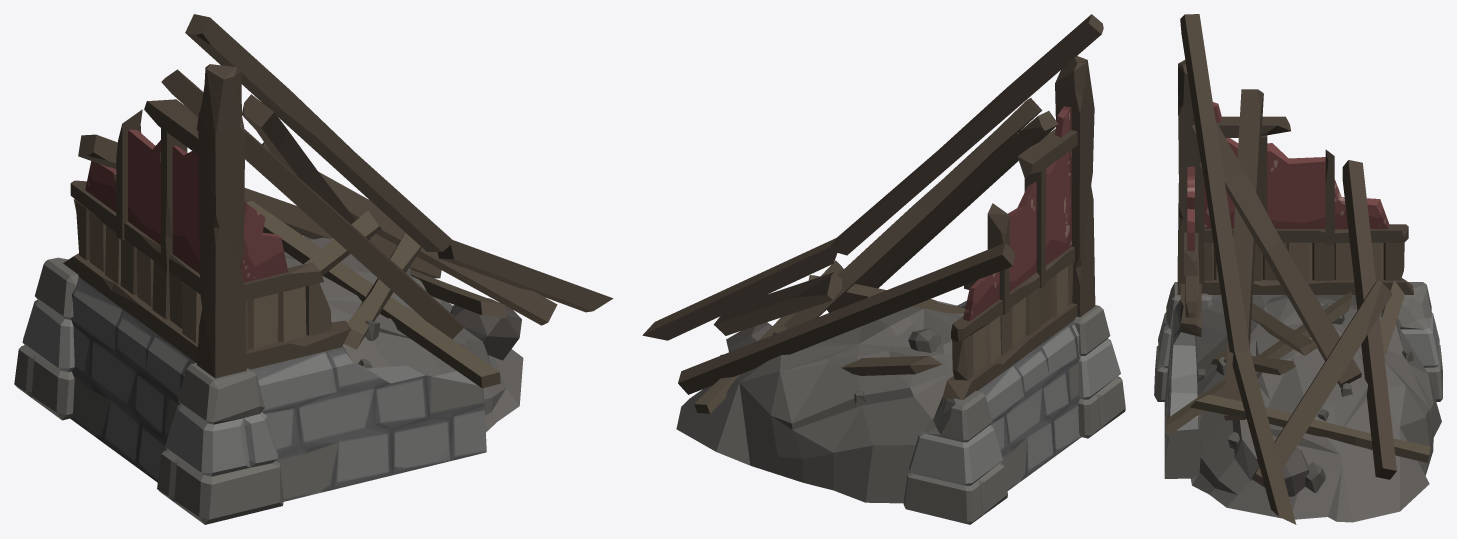
Rendered from SM_Prop_Destroyed_House_Piece_02.fbx.
3 renders of one model, left to right at view 1: azimuth 30°, elevation 25°; view 2: azimuth 150°, elevation 25°; view 3: azimuth 270°, elevation 25°, orthographic. The views are drawn at different scales.
Visible parts, largest first — view 1: SM_Prop_Destroyed_House_Piece_02; view 2: SM_Prop_Destroyed_House_Piece_02; view 3: SM_Prop_Destroyed_House_Piece_02.
Boxes of the visible parts, x1,y1,x2,y2 form: SM_Prop_Destroyed_House_Piece_02: (14,14,613,524); SM_Prop_Destroyed_House_Piece_02: (642,14,1125,524); SM_Prop_Destroyed_House_Piece_02: (1154,14,1442,524).
Size of the model in its own units: 502 by 479 by 336.
Materials: 1 (1 with a texture image).
